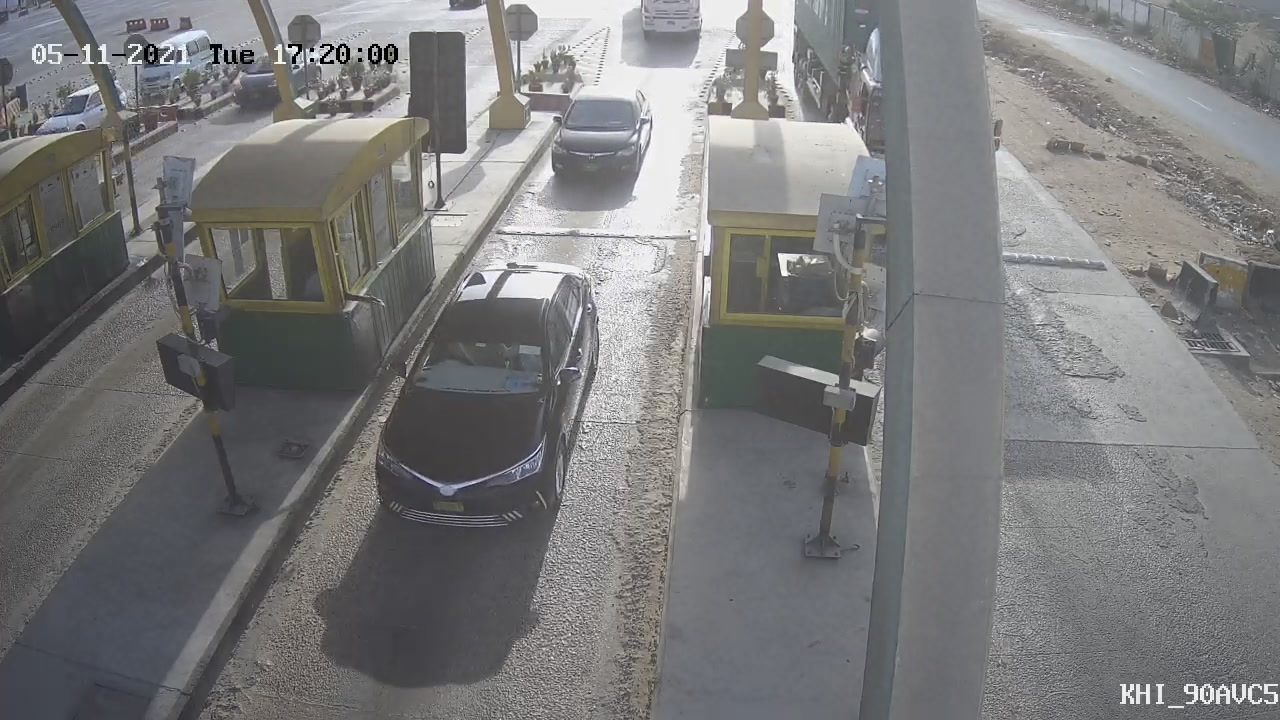F1: (338, 240, 618, 564), (530, 69, 670, 201)
